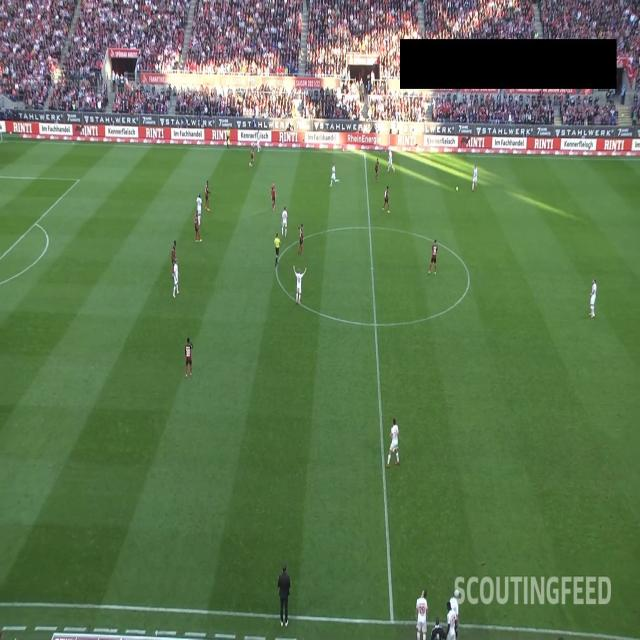ball: (456, 186, 458, 192)
